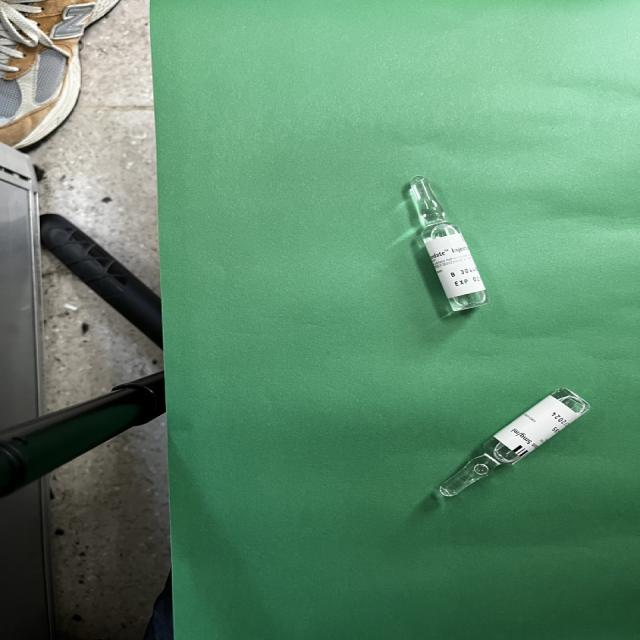Ampoules: (441, 388, 589, 498), (409, 176, 486, 312)
